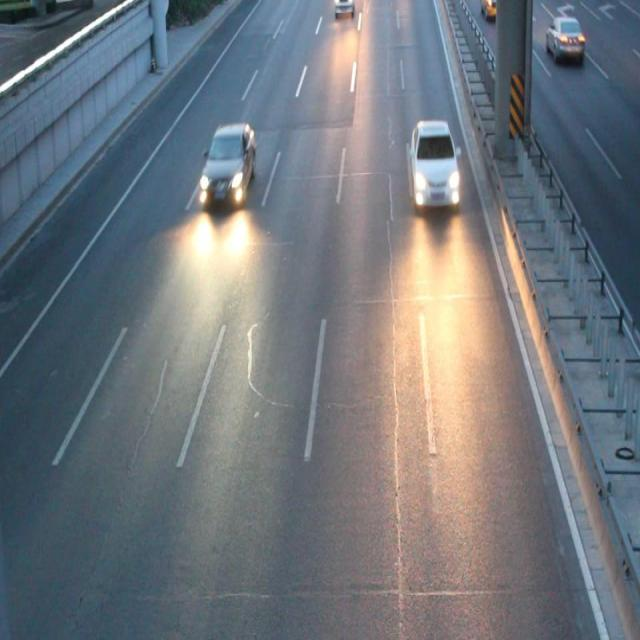car: (198, 123, 254, 203), (409, 122, 458, 205), (544, 16, 583, 56), (479, 1, 502, 18)
truck: (334, 2, 354, 15)
